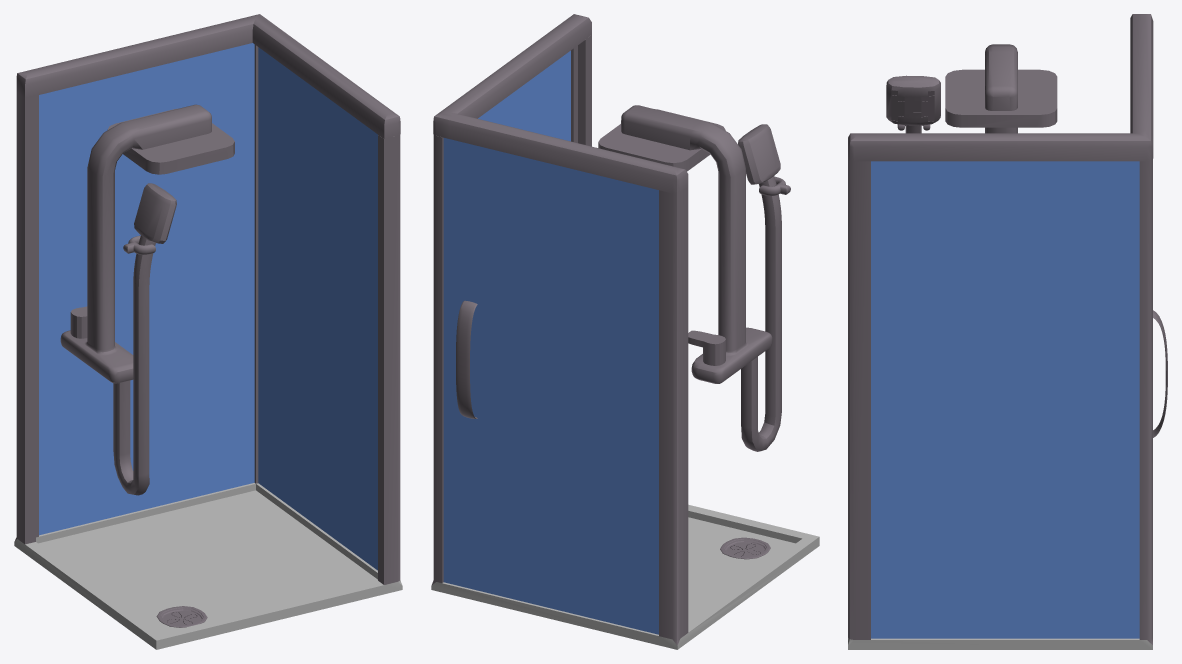
File: Shower.fbx
3 renders of one model, left to right at view 1: azimuth 30°, elevation 25°; view 2: azimuth 150°, elevation 25°; view 3: azimuth 270°, elevation 25°, orthographic. The views are drawn at different scales.
Visible parts, largest first — view 1: Shower; view 2: Shower; view 3: Shower.
Boxes of the visible parts, x1,y1,x2,y2 form: Shower: (14,14,402,649); Shower: (431,14,819,649); Shower: (848,14,1167,649).
Bounding box in the file's own units: 234 × 223 × 412.
